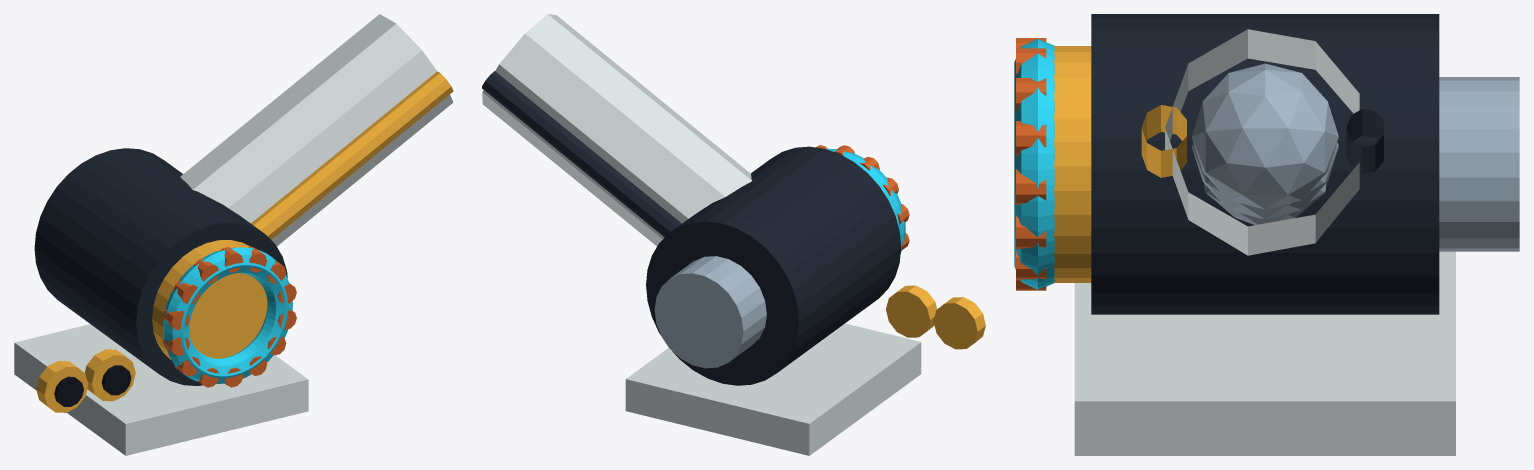
Rendered from 12_L86_RobotJoint5Forearm.fbx.
3 renders of one model, left to right at view 1: azimuth 30°, elevation 25°; view 2: azimuth 150°, elevation 25°; view 3: azimuth 270°, elevation 25°, orthographic. The views are drawn at different scales.
Parts seen in each view (by area): view 1: L86_RobotJoint5Forearm_Part_0005, L86_RobotJoint5Forearm_Part_0000, L86_RobotJoint5Forearm_Part_0001, L86_RobotJoint5Forearm_Part_0002, L86_RobotJoint5Forearm_Part_0004, L86_RobotJoint5Forearm_Part_0006, L86_RobotJoint5Forearm_Part_0008, L86_RobotJoint5Forearm_Part_0009, L86_RobotJoint5Forearm_Part_0007; view 2: L86_RobotJoint5Forearm_Part_0005, L86_RobotJoint5Forearm_Part_0000, L86_RobotJoint5Forearm_Part_0003, L86_RobotJoint5Forearm_Part_0006, L86_RobotJoint5Forearm_Part_0008, L86_RobotJoint5Forearm_Part_0002, L86_RobotJoint5Forearm_Part_0004; view 3: L86_RobotJoint5Forearm_Part_0000, L86_RobotJoint5Forearm_Part_0005, L86_RobotJoint5Forearm_Part_0003, L86_RobotJoint5Forearm_Part_0001, L86_RobotJoint5Forearm_Part_0002, L86_RobotJoint5Forearm_Part_0004.
Part boxes in pixels (box(x1,y1,x2,y2)): L86_RobotJoint5Forearm_Part_0005: box(14, 14, 453, 455); L86_RobotJoint5Forearm_Part_0000: box(34, 148, 287, 385); L86_RobotJoint5Forearm_Part_0001: box(152, 71, 453, 359); L86_RobotJoint5Forearm_Part_0002: box(163, 247, 292, 383); L86_RobotJoint5Forearm_Part_0004: box(163, 247, 296, 387); L86_RobotJoint5Forearm_Part_0006: box(36, 361, 88, 412); L86_RobotJoint5Forearm_Part_0008: box(85, 349, 135, 401); L86_RobotJoint5Forearm_Part_0009: box(101, 365, 131, 395); L86_RobotJoint5Forearm_Part_0007: box(54, 376, 83, 406); L86_RobotJoint5Forearm_Part_0005: box(482, 14, 921, 455); L86_RobotJoint5Forearm_Part_0000: box(482, 71, 901, 385); L86_RobotJoint5Forearm_Part_0003: box(654, 256, 766, 368); L86_RobotJoint5Forearm_Part_0006: box(933, 297, 985, 349); L86_RobotJoint5Forearm_Part_0008: box(886, 285, 936, 337); L86_RobotJoint5Forearm_Part_0002: box(825, 148, 905, 253); L86_RobotJoint5Forearm_Part_0004: box(816, 145, 909, 250); L86_RobotJoint5Forearm_Part_0000: box(1091, 14, 1439, 314); L86_RobotJoint5Forearm_Part_0005: box(1074, 29, 1455, 455); L86_RobotJoint5Forearm_Part_0003: box(1191, 63, 1519, 251); L86_RobotJoint5Forearm_Part_0001: box(1054, 46, 1186, 282); L86_RobotJoint5Forearm_Part_0002: box(1014, 39, 1054, 289); L86_RobotJoint5Forearm_Part_0004: box(1016, 38, 1046, 290).
Size of the model in its own units: 131 by 89.46 by 75.5.
